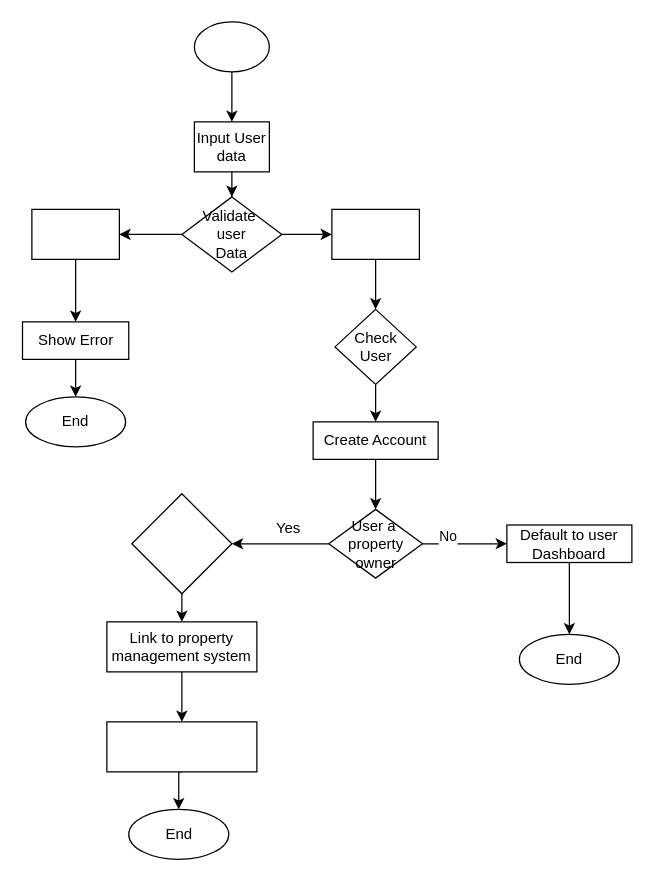
Some shapes in this 654 by 881 pixel diagram are drawn without their labels. Here are the shapes that lost their labels. From the top down, the centre of each, then its label:
At point (231, 46): "Start".
At point (75, 233): "Not valid".
At point (375, 233): "Valid".
At point (181, 543): "Craete Owner profile".
At point (181, 746): "Manage property listings".
